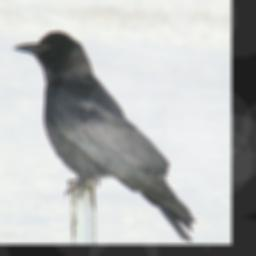Crow: (11, 30, 196, 244)
